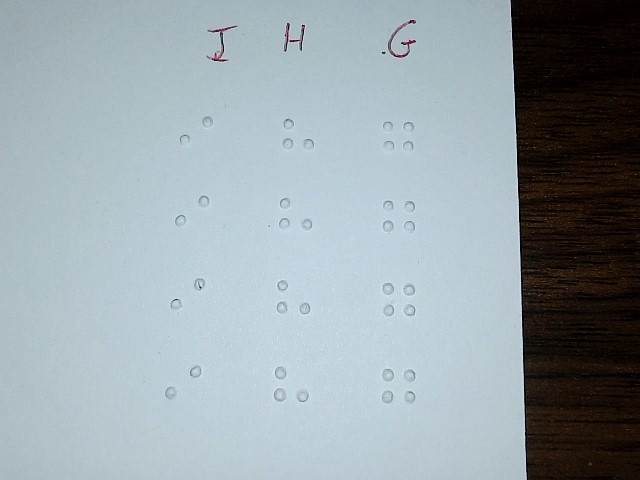G: (380, 358, 417, 420), (381, 271, 418, 333), (381, 189, 418, 251), (380, 110, 417, 172)
H: (280, 107, 317, 169), (277, 188, 314, 250), (274, 271, 311, 333), (273, 357, 310, 419)
I: (165, 356, 202, 418), (169, 266, 206, 328), (173, 183, 210, 245), (177, 105, 214, 167)
